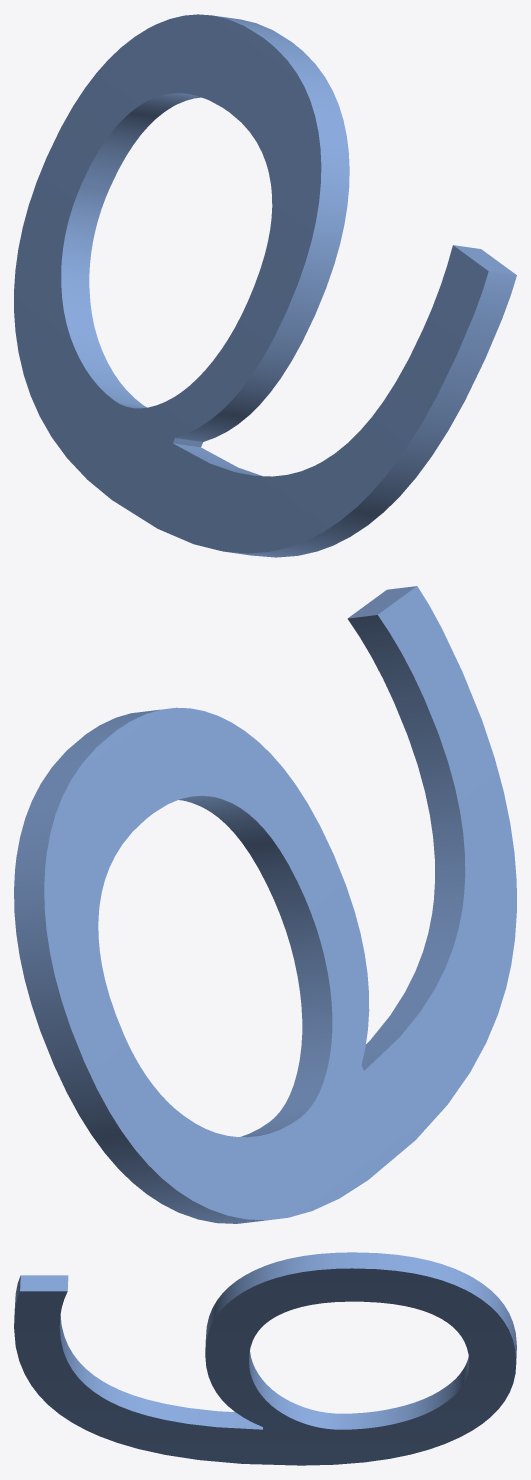
The model's file is New_Number_6.gltf.
3 views of the same model, one above another, from view 1: azimuth 30°, elevation 25°; view 2: azimuth 150°, elevation 25°; view 3: azimuth 270°, elevation 25° (orthographic). The views are drawn at different scales.
Visible parts, largest first — view 1: Part 312; view 2: Part 312; view 3: Part 312.
Boxes of the visible parts, box(x1,y1,x2,y2) form: Part 312: box(14, 14, 516, 557); Part 312: box(14, 586, 516, 1223); Part 312: box(14, 1252, 516, 1465).
Bounding box in the file's own units: 0.00189 × 0.0033 × 0.00566.
